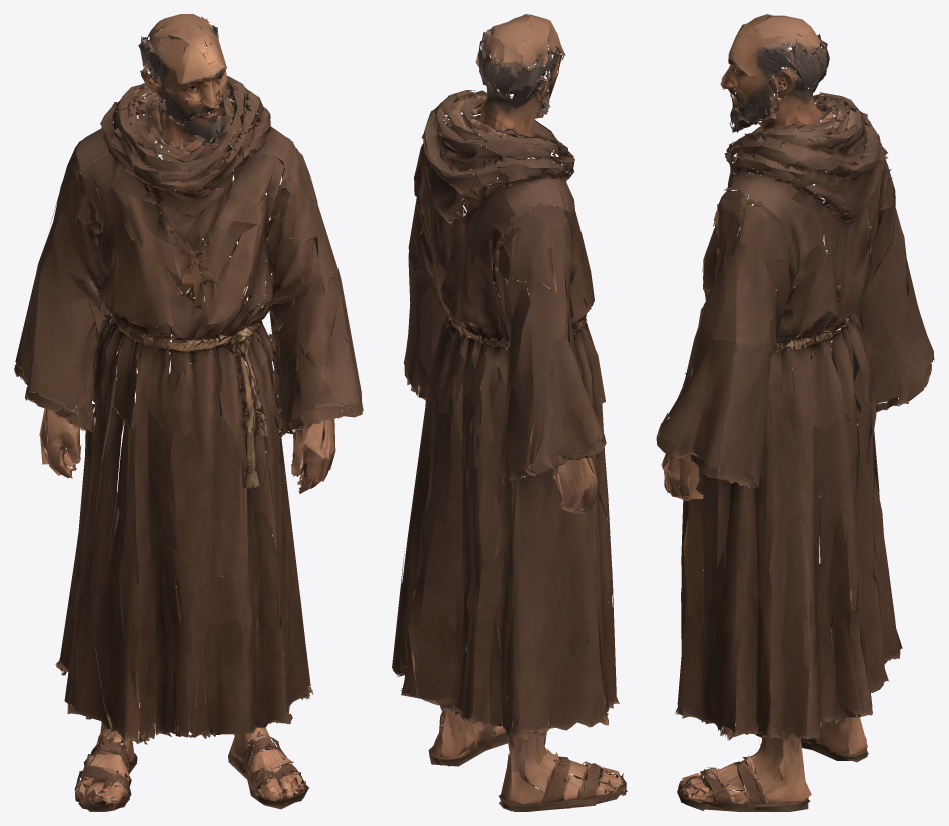
File: npc-monk.glb
3 renders of one model, left to right at view 1: azimuth 30°, elevation 25°; view 2: azimuth 150°, elevation 25°; view 3: azimuth 270°, elevation 25°, orthographic.
Visible parts, largest first — view 1: Mesh_0; view 2: Mesh_0; view 3: Mesh_0.
Part boxes in pixels (x1,y1,x2,y2): Mesh_0: (14,14,363,811); Mesh_0: (392,14,627,811); Mesh_0: (656,14,934,811).
Size of the model in its own units: 0.6931 by 1.91 by 0.6365.
Materials: 1 (1 with a texture image).
